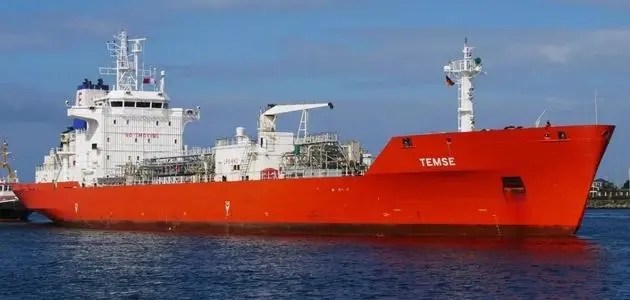Cargoship: (8, 34, 616, 236)
